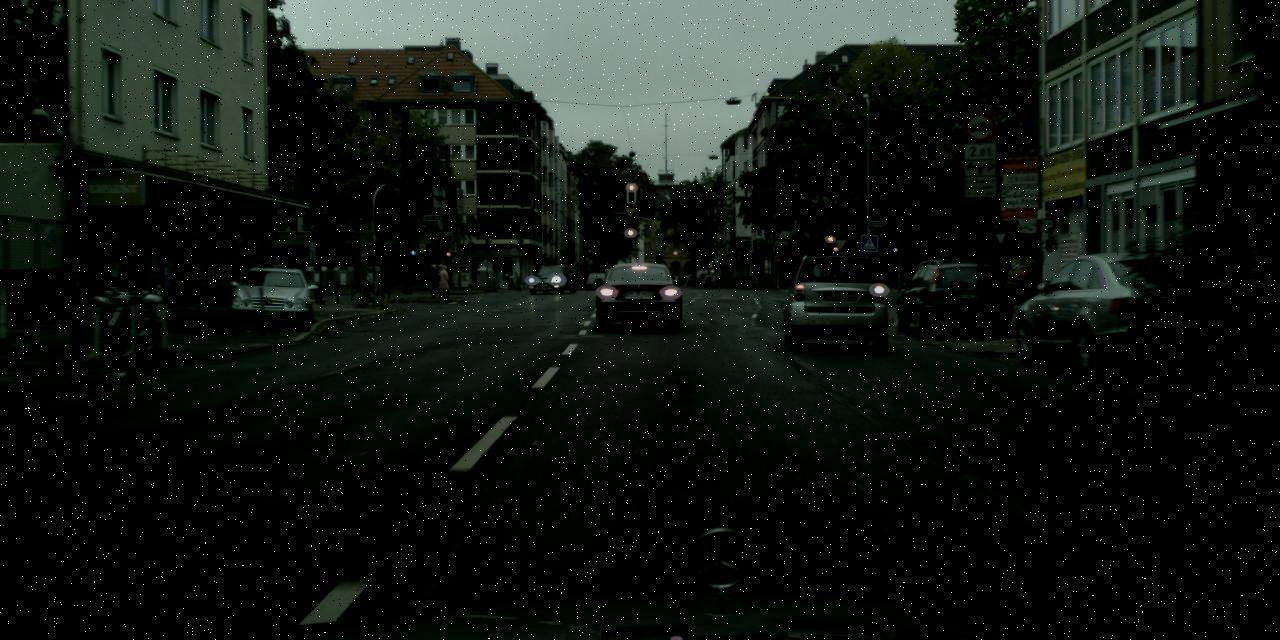ped: (426, 263, 440, 297), (434, 264, 448, 295), (438, 265, 450, 296)
